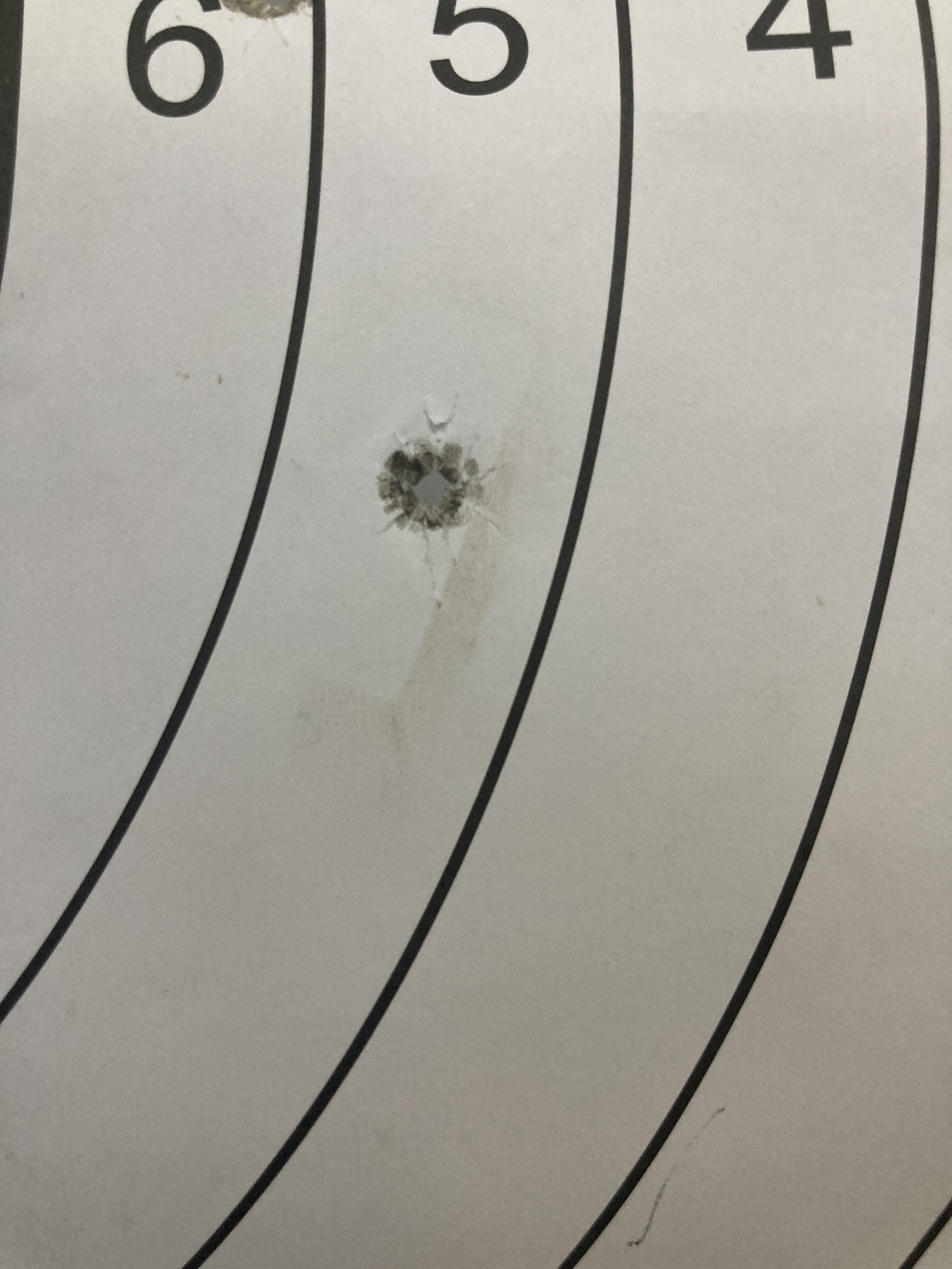hole: (381, 400, 507, 570)
